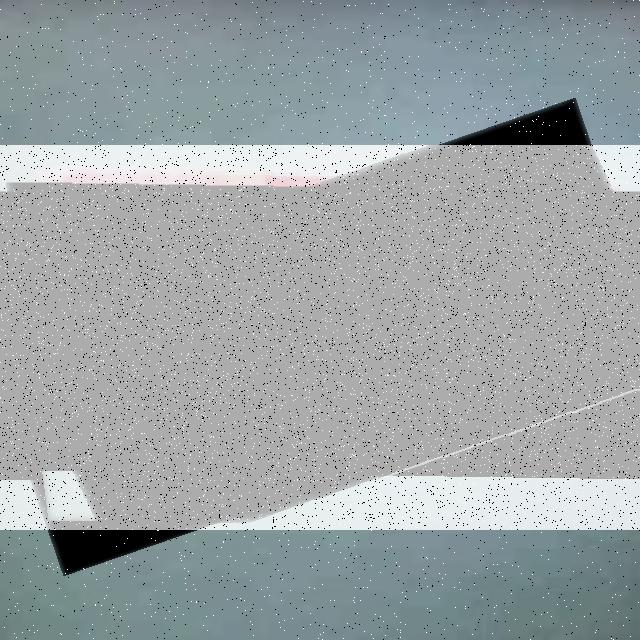lima puluh ribu rupiah: (0, 145, 640, 530)
